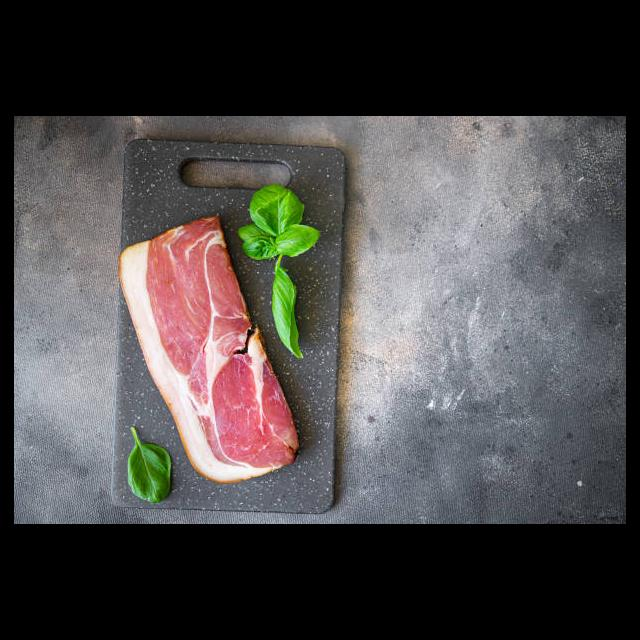pork: (119, 214, 240, 364), (178, 349, 296, 482)
